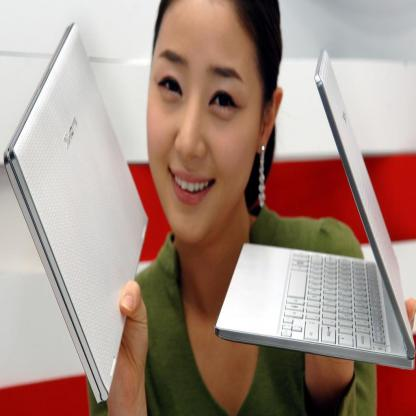board: (214, 47, 414, 371), (4, 22, 150, 404)
